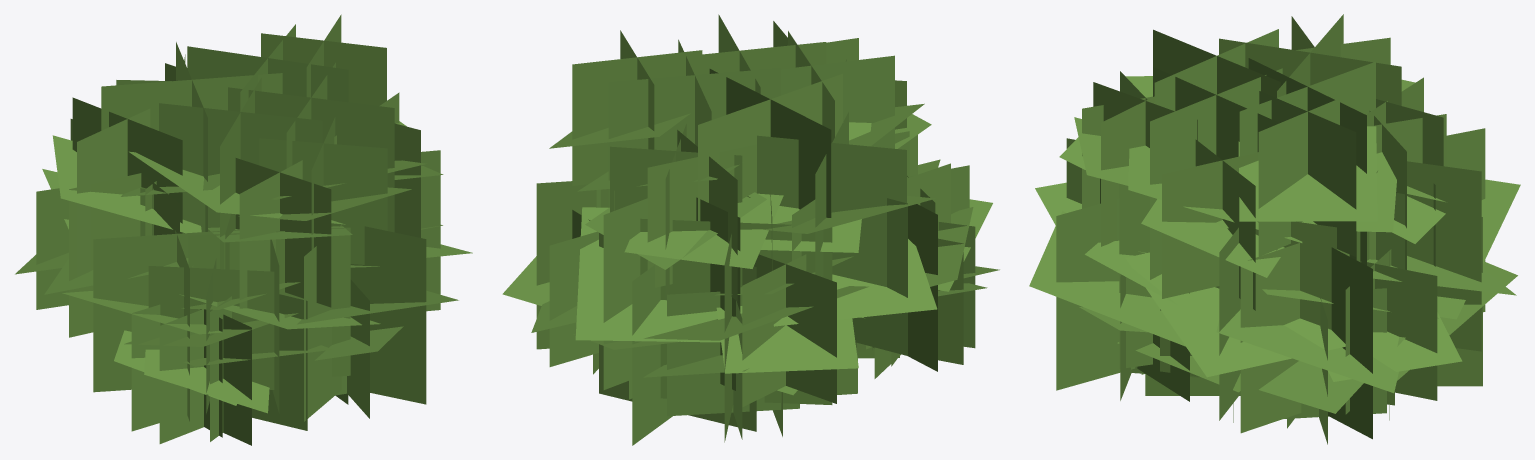
File: pommier_1_f2_loin.glb
The picture shows the model from 3 angles, left to right: view 1: azimuth 30°, elevation 25°; view 2: azimuth 150°, elevation 25°; view 3: azimuth 270°, elevation 25°; orthographic projection. The views are drawn at different scales.
Visible parts, largest first — view 1: Pommier_T1_f2_Leger_Loin; view 2: Pommier_T1_f2_Leger_Loin; view 3: Pommier_T1_f2_Leger_Loin.
Boxes of the visible parts, left/top/right/bottom form: Pommier_T1_f2_Leger_Loin: left=15, top=14, right=472, bottom=445; Pommier_T1_f2_Leger_Loin: left=502, top=14, right=999, bottom=445; Pommier_T1_f2_Leger_Loin: left=1029, top=14, right=1520, bottom=444.
Size of the model in its own units: 5.63 by 4.24 by 5.85.
